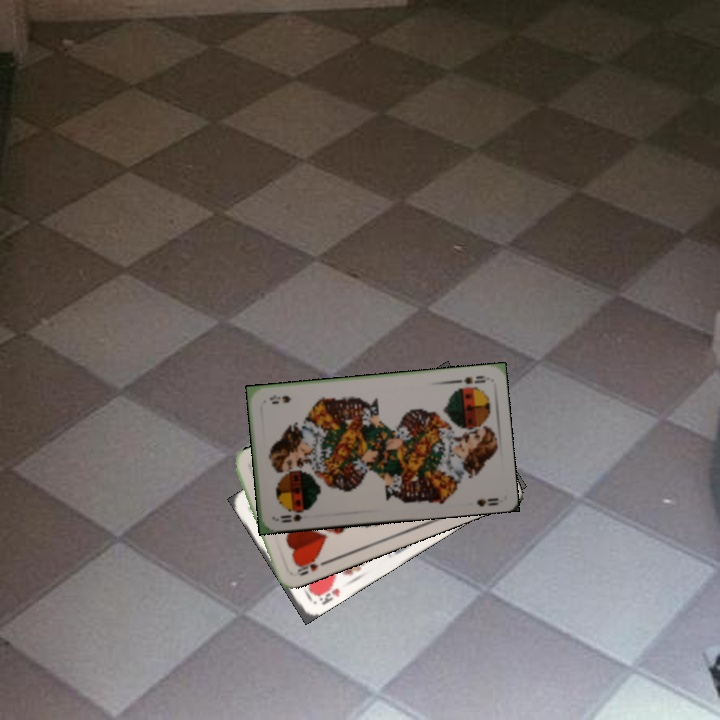HK: (311, 577, 343, 608)
HO: (292, 553, 330, 579)
SO: (276, 505, 312, 525), (450, 372, 488, 386)
